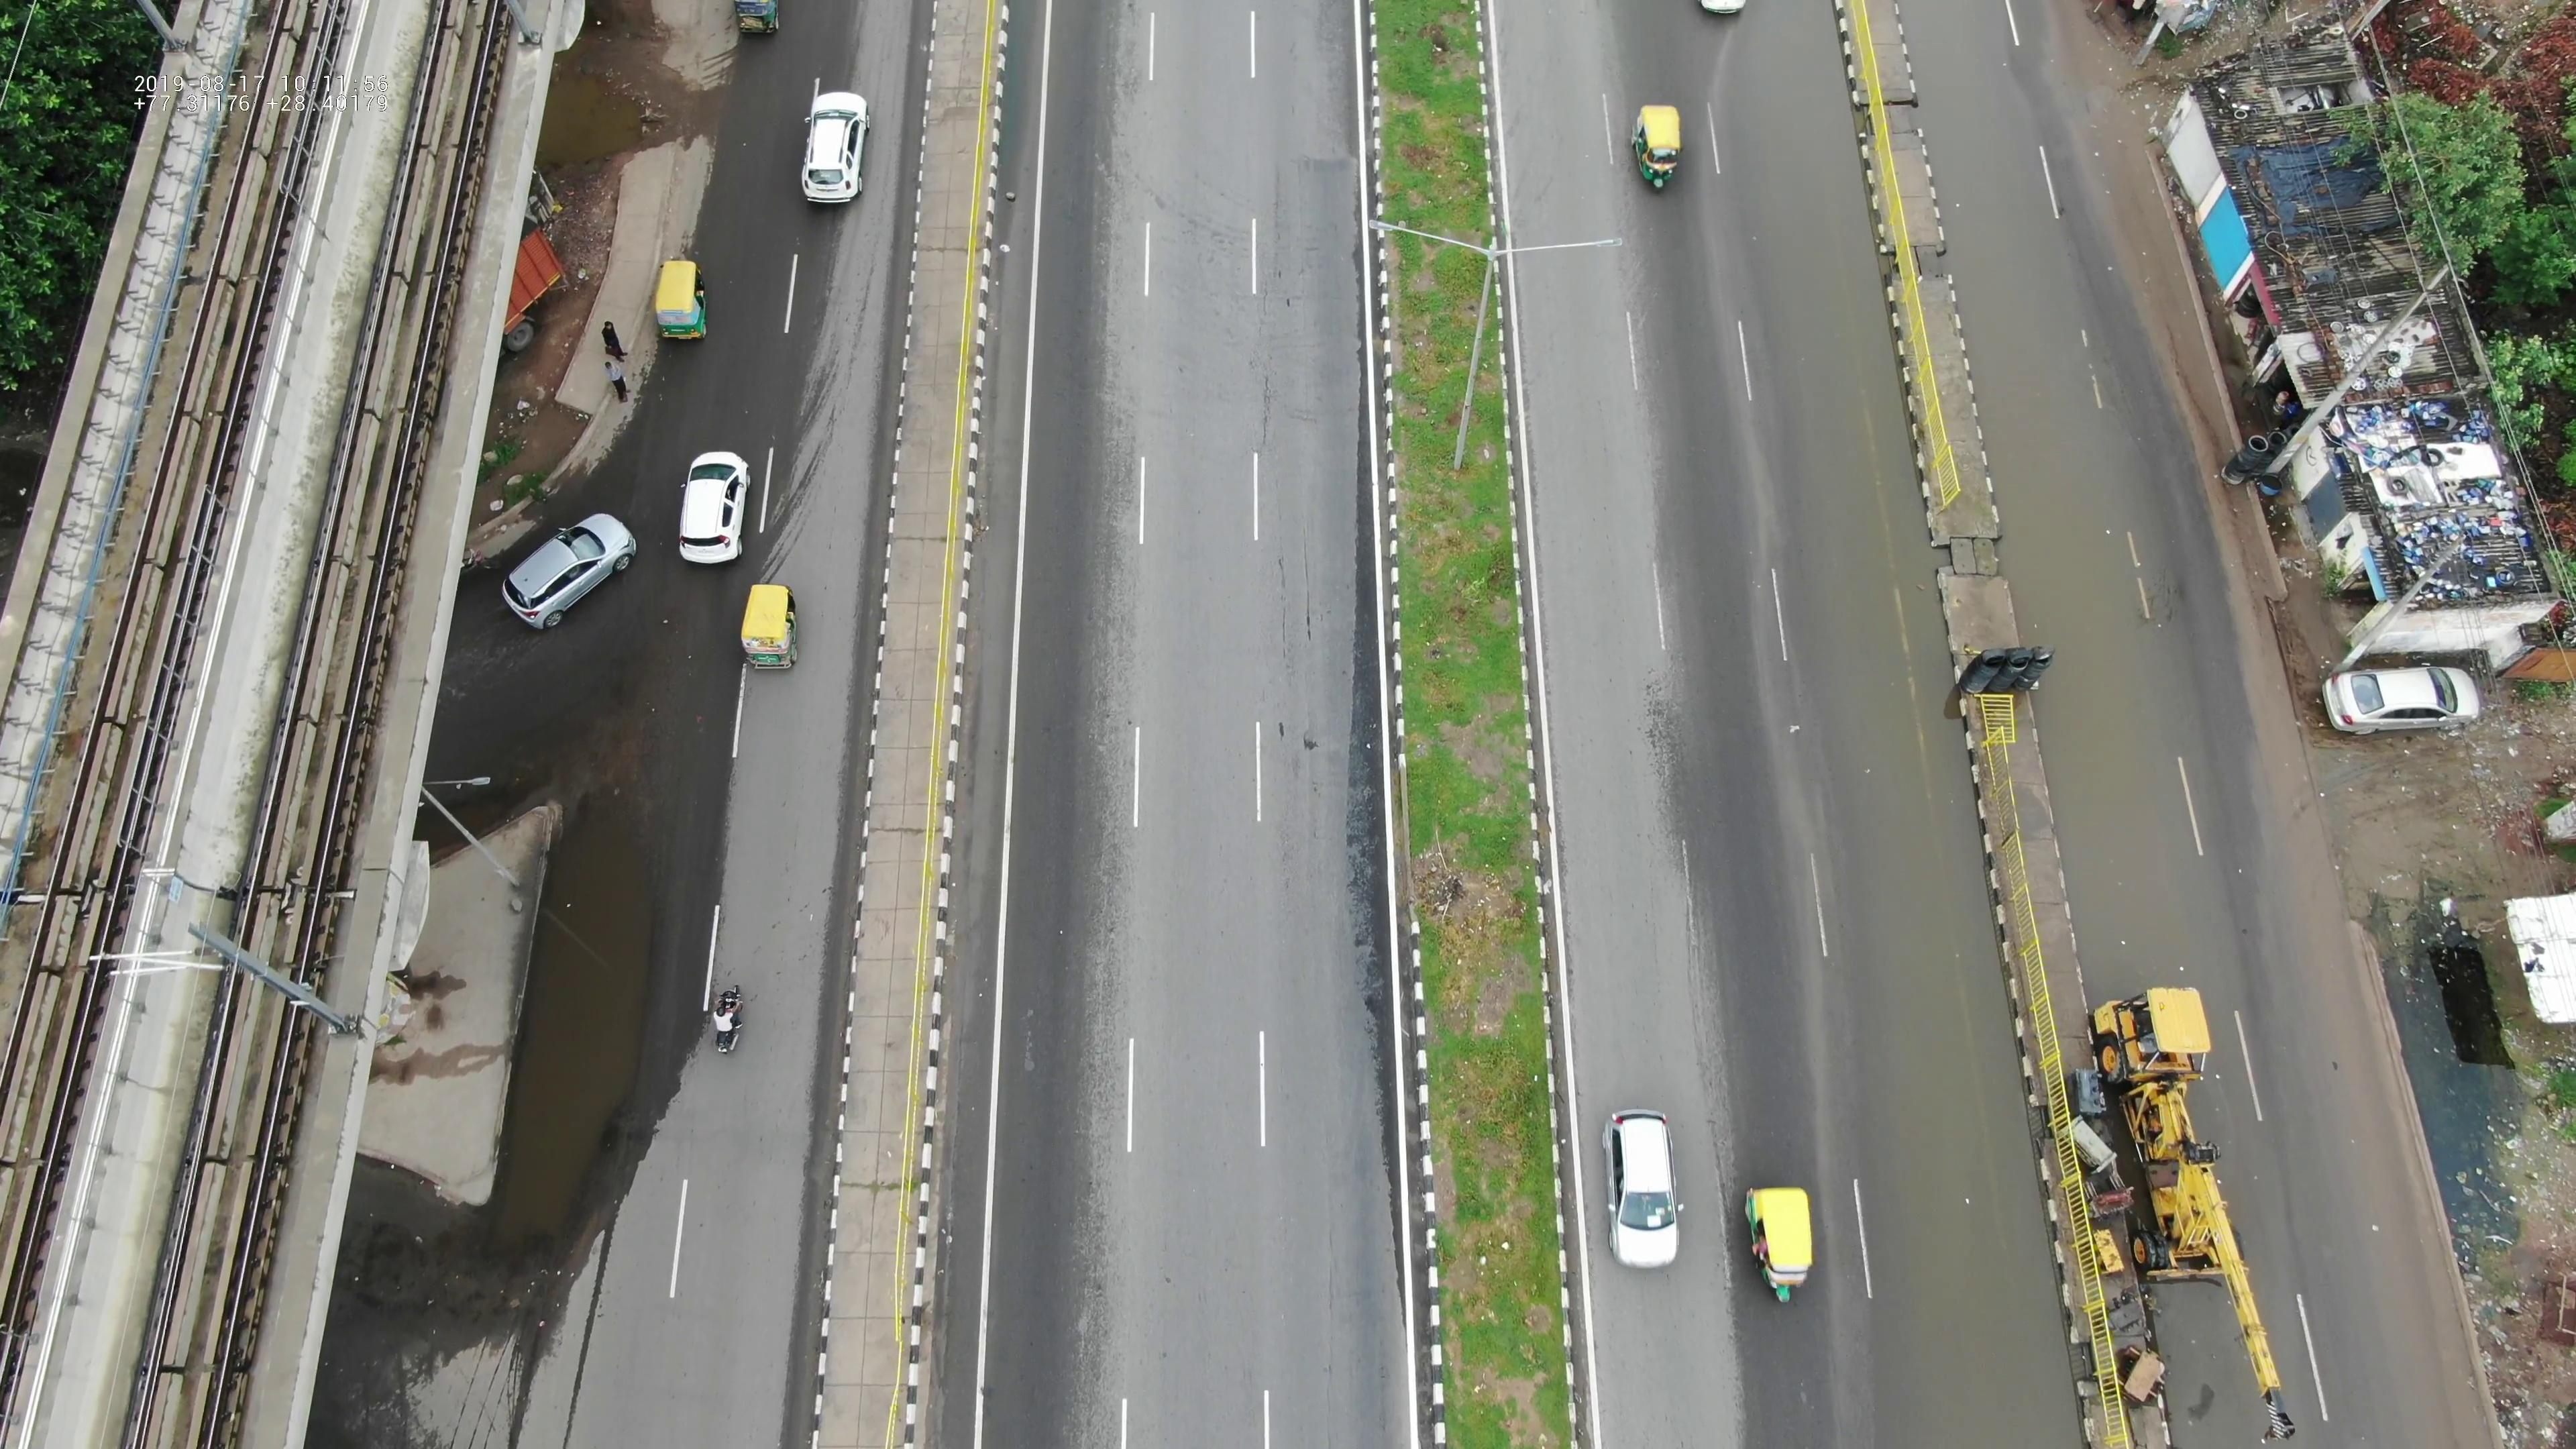Waterlogging: (1796, 623, 2040, 1028), (1714, 96, 1927, 529)
